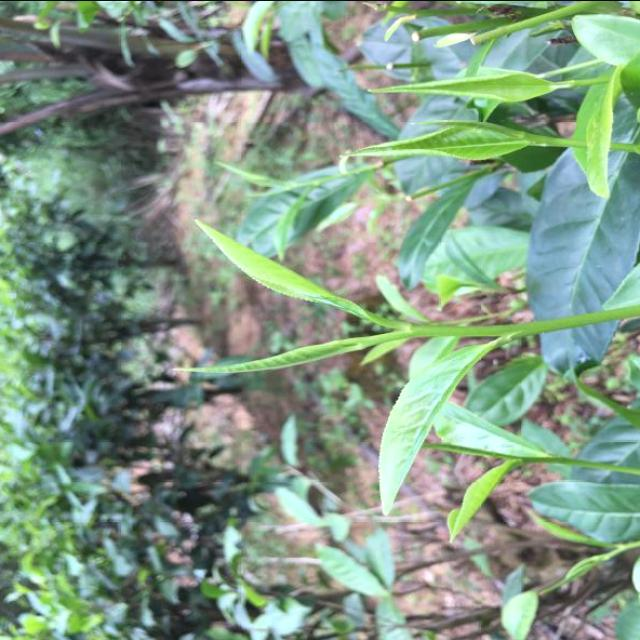Stem: (410, 324, 427, 336), (550, 137, 566, 146), (571, 79, 584, 86), (522, 456, 534, 462)
